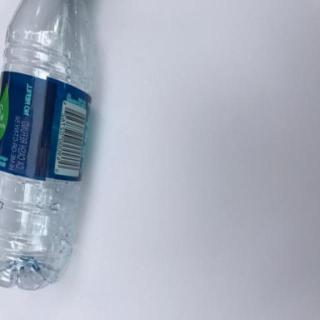Anorganik: (1, 0, 98, 294)
